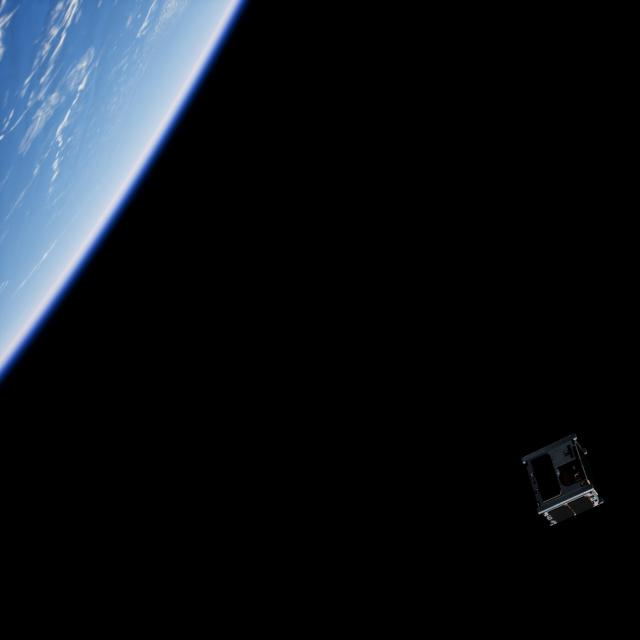medium_debris: (520, 432, 605, 526)
